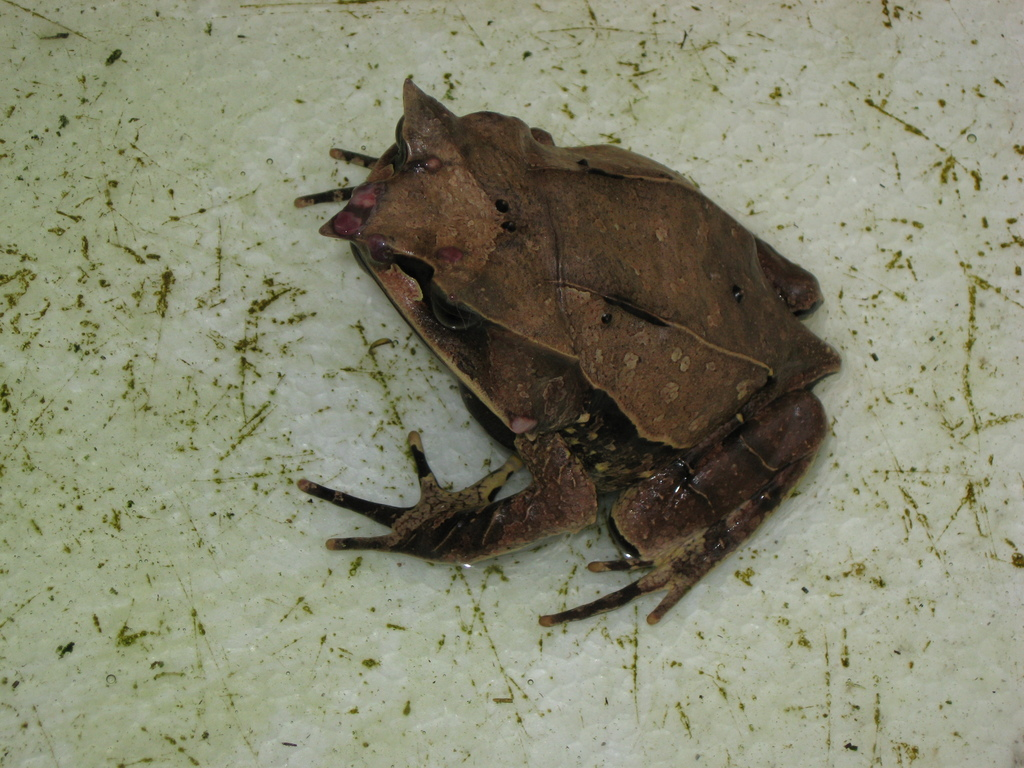Frog: (288, 72, 842, 626)
